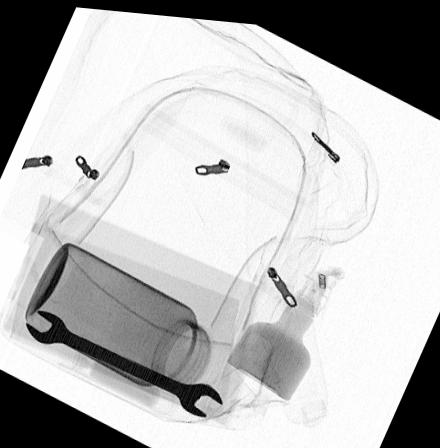Wrench: (22, 307, 225, 414)
